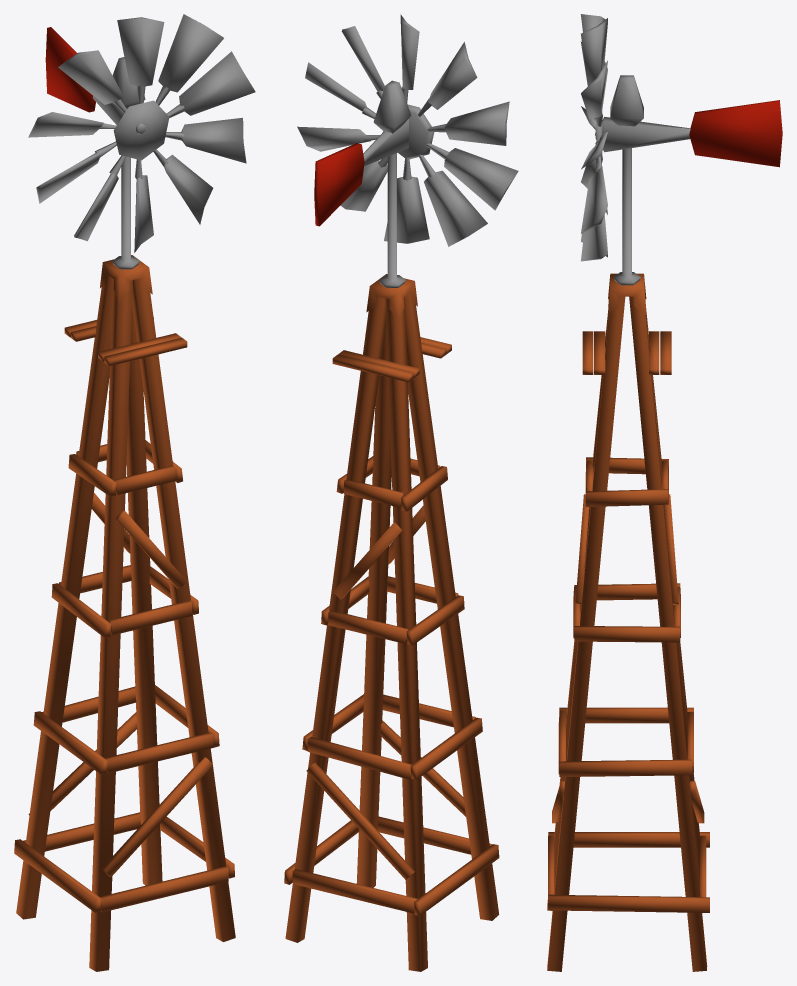
The model's file is Western_Windmill_Whole.fbx.
3 renders of one model, left to right at view 1: azimuth 30°, elevation 25°; view 2: azimuth 150°, elevation 25°; view 3: azimuth 270°, elevation 25°, orthographic. The views are drawn at different scales.
Visible parts, largest first — view 1: windmill; view 2: windmill; view 3: windmill.
Boxes of the visible parts, bbox=[...] form: windmill: bbox=[14, 14, 255, 971]; windmill: bbox=[284, 14, 518, 971]; windmill: bbox=[547, 14, 782, 971].
Bounding box in the file's own units: 287 × 1175 × 274.
Materials: 1 (1 with a texture image).
